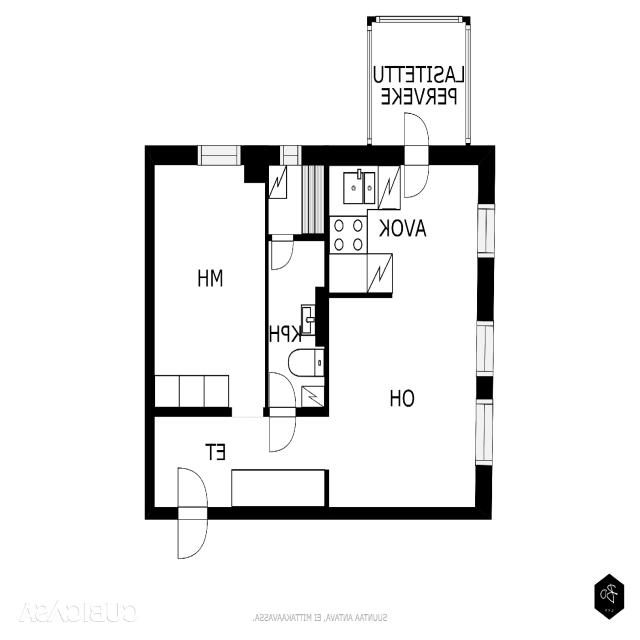door: (168, 466, 214, 565), (260, 365, 299, 456), (392, 107, 430, 198), (267, 227, 299, 285)
window: (466, 312, 504, 484), (184, 132, 247, 169), (469, 192, 499, 268), (270, 135, 307, 170)
zone: (324, 292, 481, 514), (148, 155, 267, 414), (322, 158, 491, 298), (261, 232, 326, 416), (261, 161, 326, 241)
